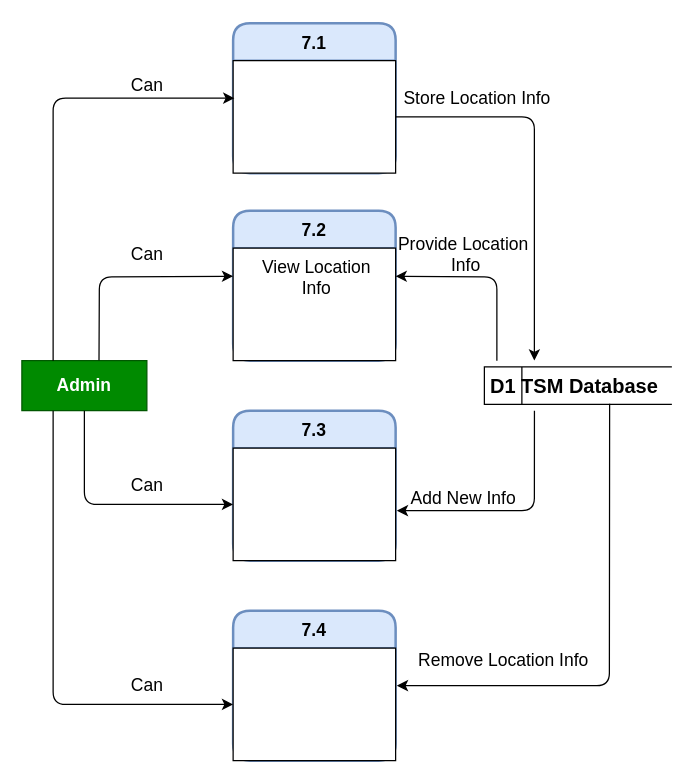
The diagram is 694 pixels wide and 783 high, and some of its shapes have lost their labels. The centre of each missing label's shape, as x and y in pixels:
Add Location: point (314, 116)
Delete Location Info: point (314, 704)
Update Location Info: point (314, 504)
